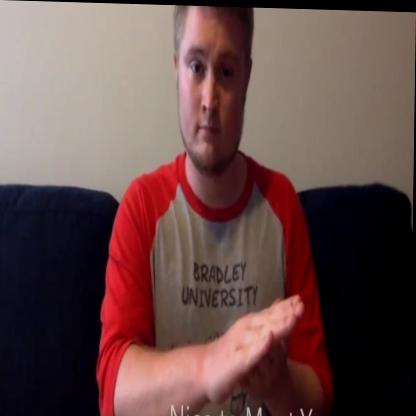NiceToMeetYou: (207, 281, 306, 398)
